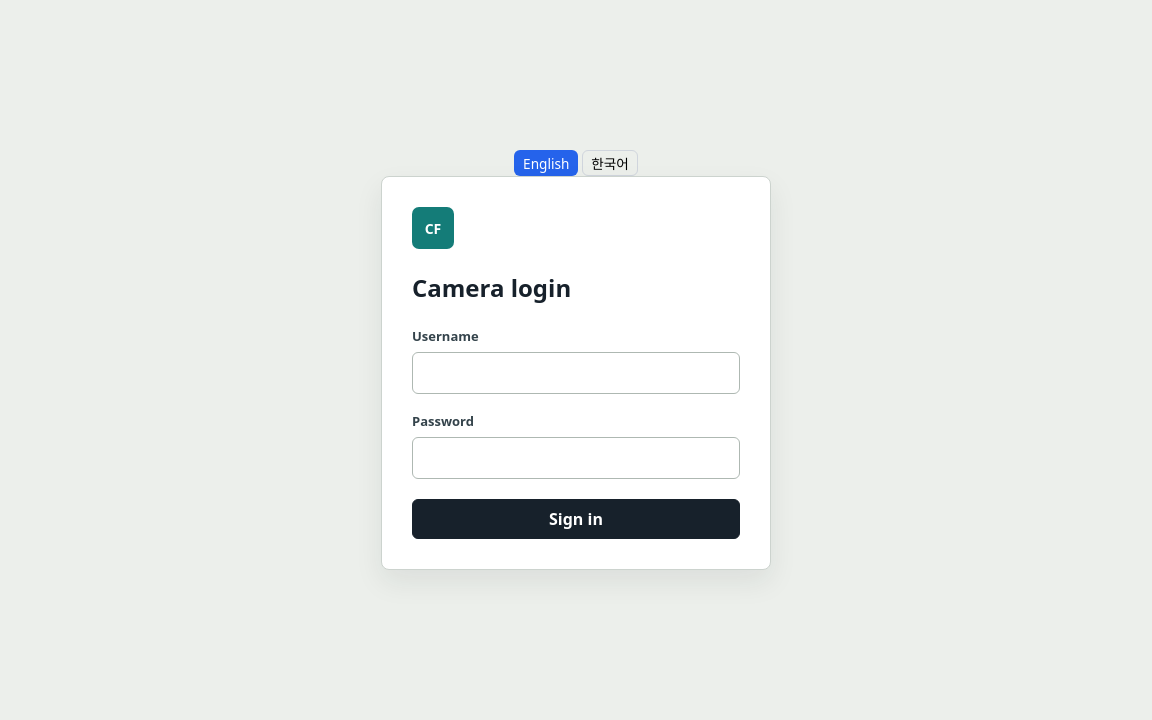
Test case: App bootstrap gate › signs in through the exact API paths before mounting the protected shell
Type "operator.one" into the field labelled "Username" at (576, 373), box [412,352,740,394]
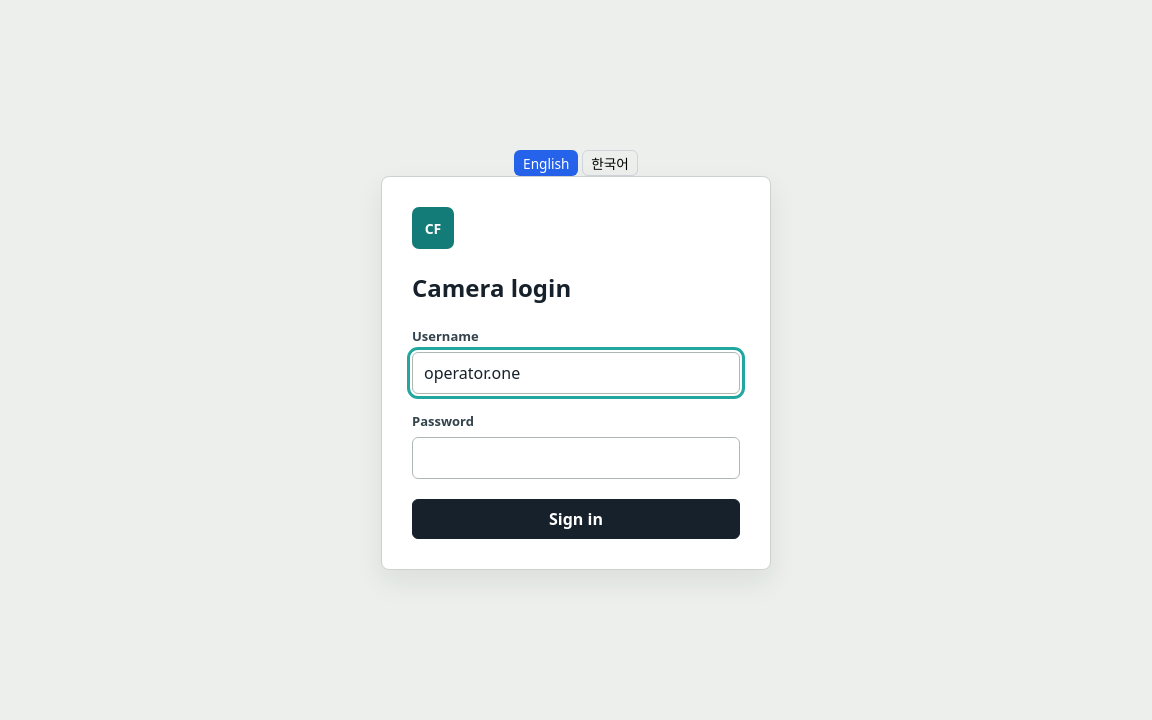
Type "NorthStar!9" into the password field labelled "Password" at (576, 458), box [412,437,740,479]
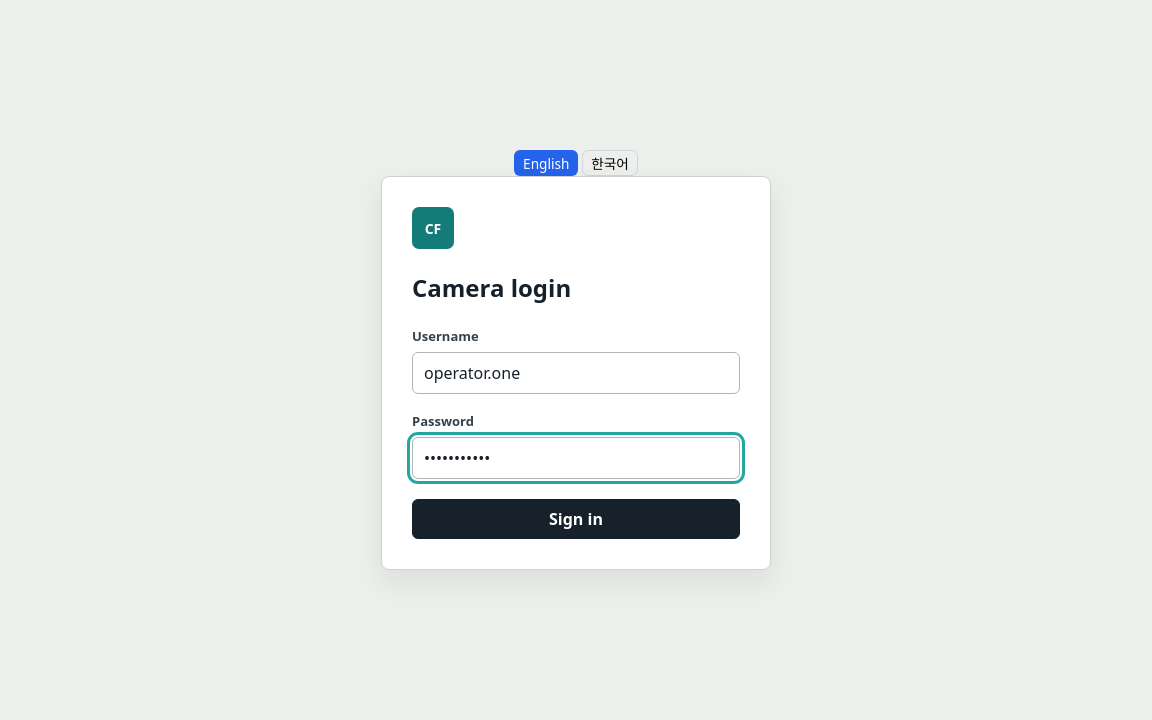
Click the button "Sign in" at (576, 519), box [412,499,740,539]
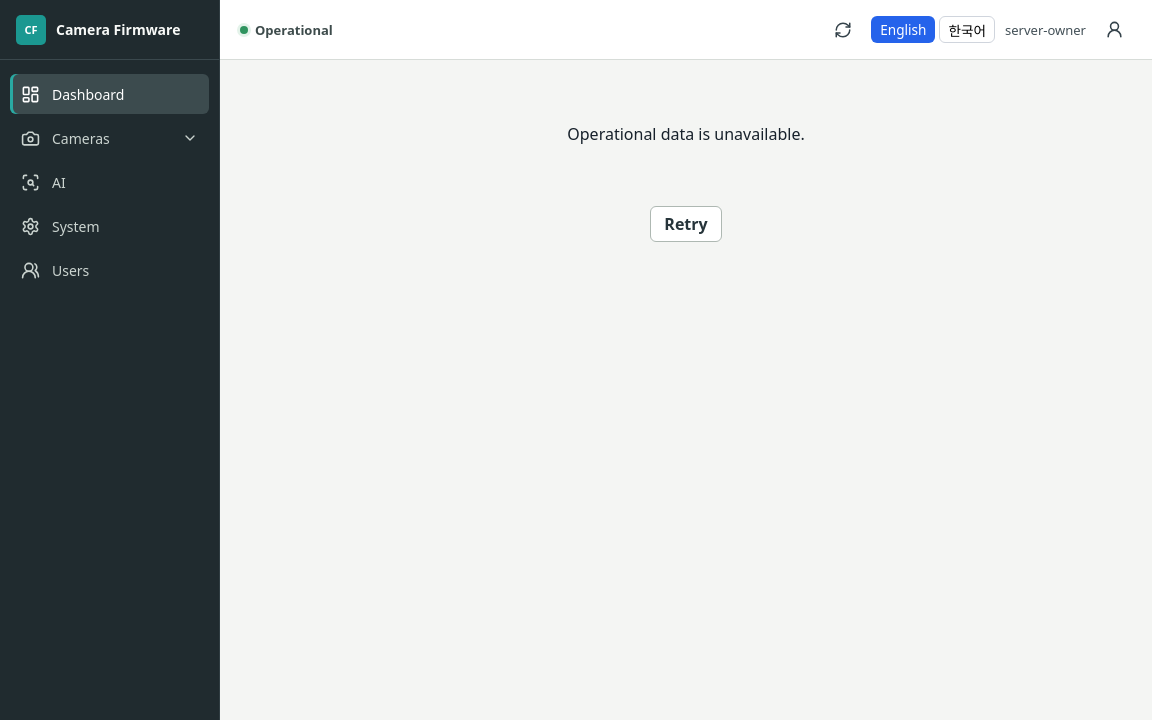
Now the text "server-owner" is shown, box [1005,20,1086,38]
